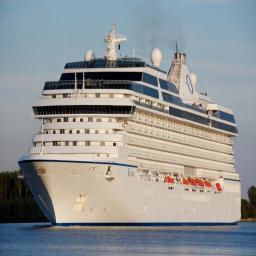cruises: (17, 21, 244, 229)
